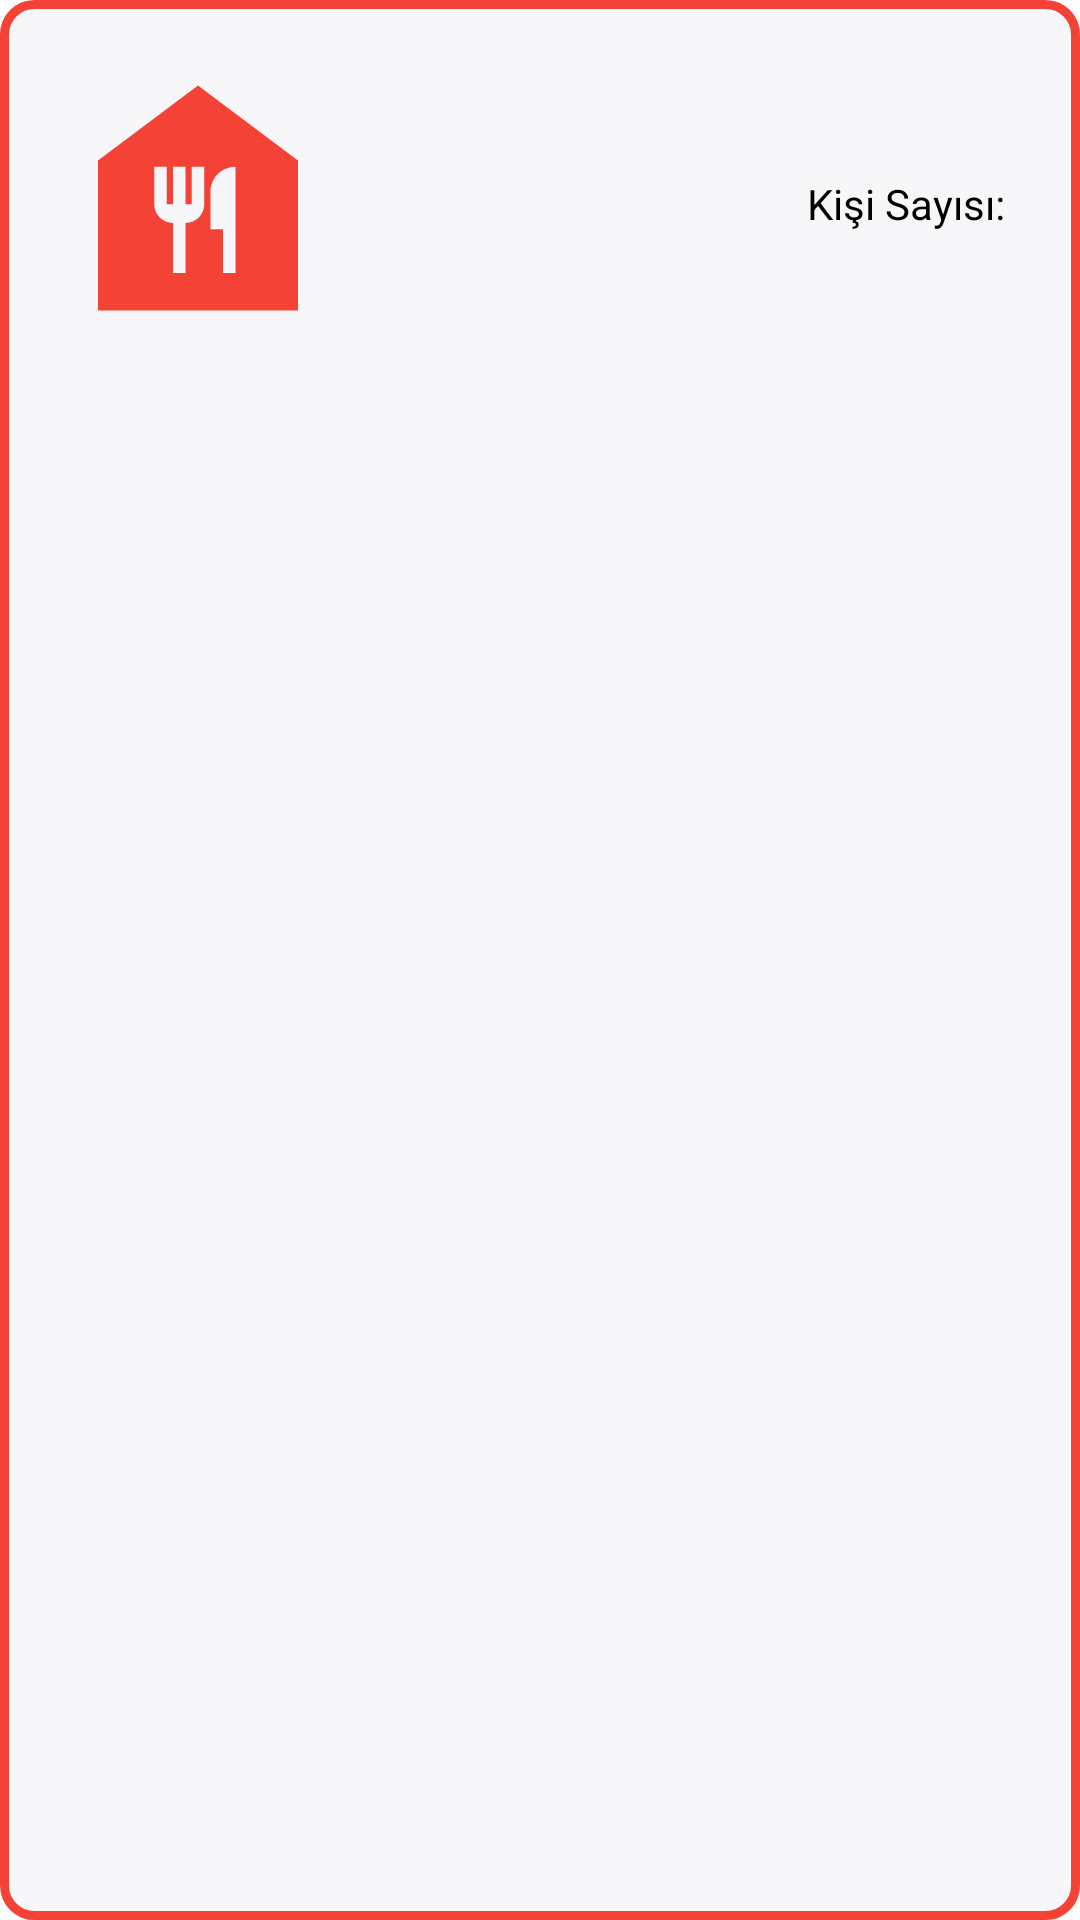

Where icons sit on this 1080px x 1920px app screen, as (x1=x1, y1=y1, x2=x2, y2=y2):
food: (x1=98, y1=85, x2=298, y2=311)
